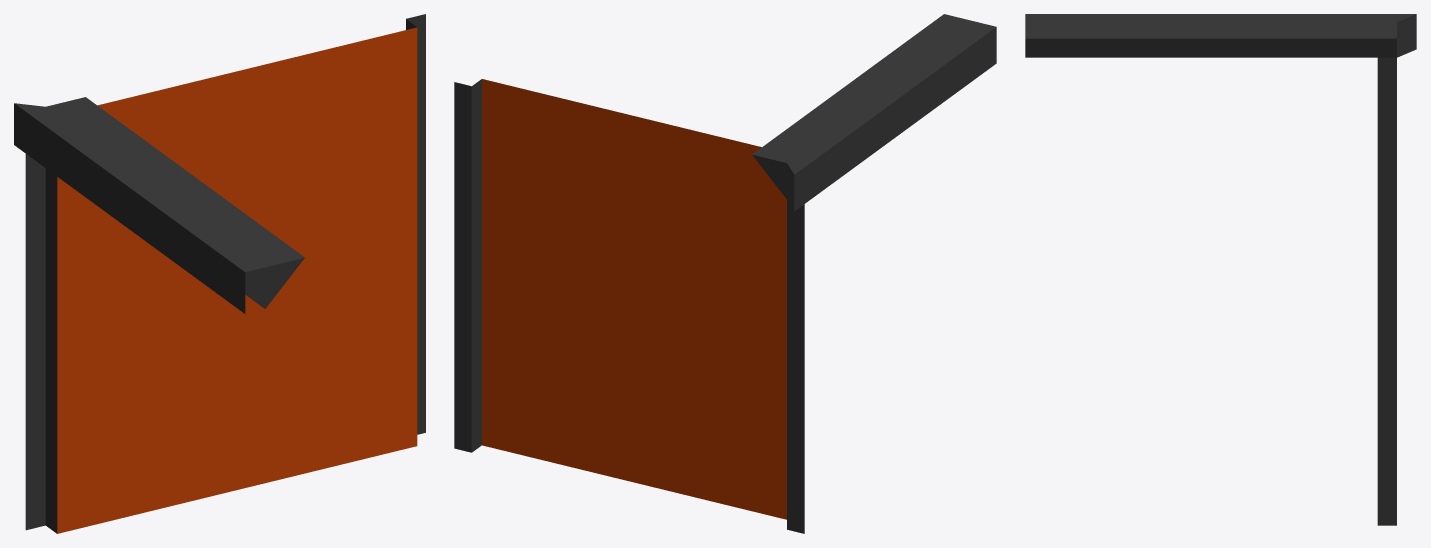
File: Straight_Edge_Wall_Roof_Right.obj
The picture shows the model from 3 angles, left to right: view 1: azimuth 30°, elevation 25°; view 2: azimuth 150°, elevation 25°; view 3: azimuth 270°, elevation 25°; orthographic projection. The views are drawn at different scales.
Visible parts, largest first — view 1: Straight_Edge_Wall_Roof_Right; view 2: Straight_Edge_Wall_Roof_Right; view 3: Straight_Edge_Wall_Roof_Right.
Boxes of the visible parts, x1,y1,x2,y2 form: Straight_Edge_Wall_Roof_Right: (14,14,425,533); Straight_Edge_Wall_Roof_Right: (454,14,996,533); Straight_Edge_Wall_Roof_Right: (1025,14,1416,525).
Bounding box in the file's own units: 1 × 1 × 1.
